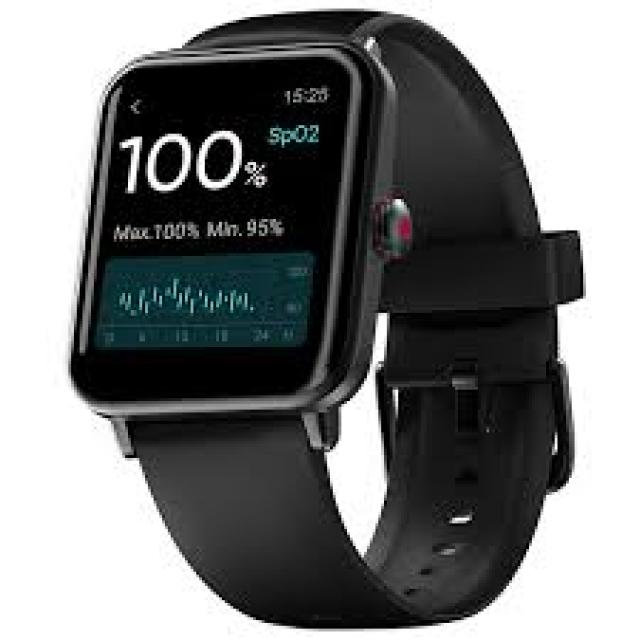objects: (71, 9, 580, 628)
